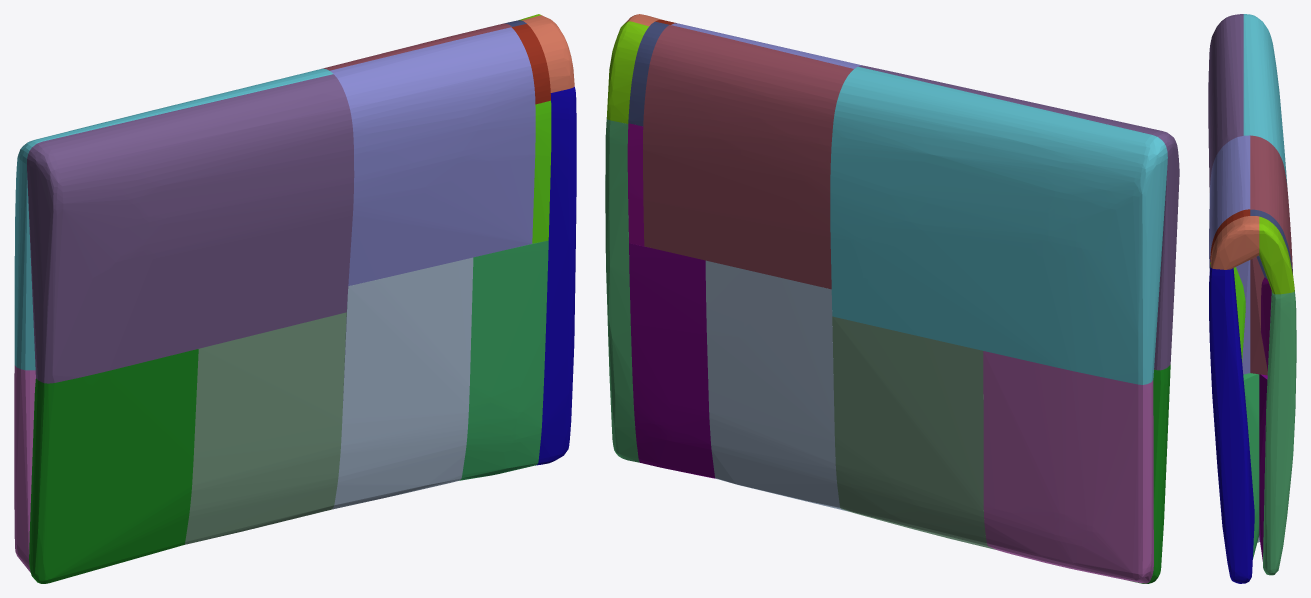
Rendered from coacd_collision.obj.
3 views of the same model, side by side, from view 1: azimuth 30°, elevation 25°; view 2: azimuth 150°, elevation 25°; view 3: azimuth 270°, elevation 25° (orthographic). The views are drawn at different scales.
Parts seen in each view (by area): view 1: geometry_1, geometry_12, geometry_8, geometry_0, geometry_6, geometry_10, geometry_5, geometry_2, geometry_7, geometry_17, geometry_9, geometry_15 (+1 smaller); view 2: geometry_2, geometry_13, geometry_7, geometry_0, geometry_6, geometry_11, geometry_3, geometry_1, geometry_8, geometry_4, geometry_14, geometry_16 (+1 smaller); view 3: geometry_5, geometry_3, geometry_1, geometry_13, geometry_2, geometry_12, geometry_9, geometry_4, geometry_10, geometry_11, geometry_14, geometry_17 (+2 smaller).
Part boxes in pixels (left/top/right/bottom): geometry_1: left=27, top=74, right=354, bottom=383; geometry_12: left=330, top=27, right=535, bottom=285; geometry_8: left=29, top=349, right=198, bottom=583; geometry_0: left=184, top=312, right=346, bottom=544; geometry_6: left=332, top=257, right=473, bottom=509; geometry_10: left=459, top=240, right=548, bottom=480; geometry_5: left=535, top=86, right=576, bottom=465; geometry_2: left=14, top=68, right=333, bottom=370; geometry_7: left=14, top=365, right=35, bottom=572; geometry_17: left=532, top=100, right=551, bottom=243; geometry_9: left=522, top=15, right=574, bottom=92; geometry_15: left=511, top=24, right=550, bottom=104; geometry_2: left=830, top=66, right=1167, bottom=384; geometry_13: left=643, top=25, right=853, bottom=289; geometry_7: left=983, top=351, right=1153, bottom=583; geometry_0: left=832, top=316, right=995, bottom=549; geometry_6: left=705, top=260, right=849, bottom=511; geometry_11: left=629, top=243, right=715, bottom=478; geometry_3: left=605, top=117, right=639, bottom=462; geometry_1: left=858, top=65, right=1179, bottom=370; geometry_8: left=1130, top=364, right=1170, bottom=583; geometry_4: left=607, top=21, right=648, bottom=123; geometry_14: left=627, top=123, right=644, bottom=246; geometry_16: left=628, top=21, right=669, bottom=126; geometry_5: left=1209, top=261, right=1254, bottom=583; geometry_3: left=1263, top=291, right=1296, bottom=575; geometry_1: left=1208, top=14, right=1243, bottom=192; geometry_13: left=1250, top=135, right=1292, bottom=375; geometry_2: left=1243, top=14, right=1287, bottom=187; geometry_12: left=1209, top=135, right=1250, bottom=374; geometry_9: left=1210, top=216, right=1259, bottom=269; geometry_4: left=1259, top=216, right=1294, bottom=294; geometry_10: left=1243, top=373, right=1259, bottom=558; geometry_11: left=1259, top=374, right=1267, bottom=561; geometry_14: left=1261, top=277, right=1271, bottom=370; geometry_17: left=1210, top=262, right=1245, bottom=362.
Bounding box in the file's own units: 123 × 97.35 × 21.34.
